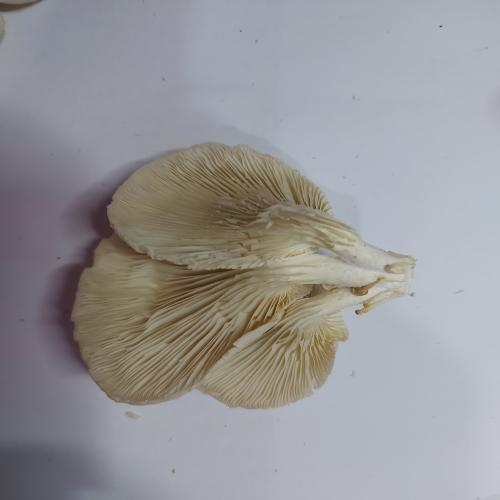Oyster Mushroom: (70, 141, 418, 409)
